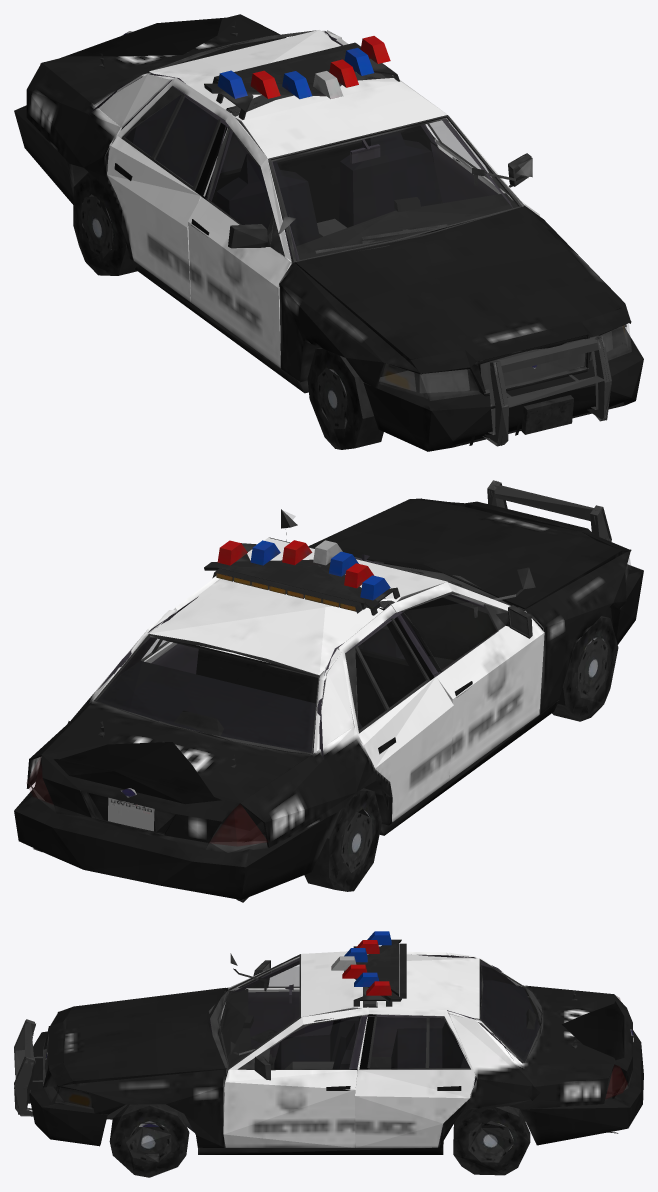
The model's file is crownvic_police.lod1.glb.
3 renders of one model, top to bottom at view 1: azimuth 30°, elevation 25°; view 2: azimuth 150°, elevation 25°; view 3: azimuth 270°, elevation 25°, orthographic. The views are drawn at different scales.
Visible parts, largest first — view 1: glass_low_main_frame_0, glass_low_glass_0, glass_low_interior_bottom_0, glass_low_wheels_and_parts_0, fs_vector_bulbs_base_low_fs_vector_0, glass_low_interior2_0, glass_low_plate_0; view 2: glass_low_main_frame_0, glass_low_glass_0, glass_low_interior_bottom_0, glass_low_wheels_and_parts_0, fs_vector_bulbs_base_low_fs_vector_0, glass_low_interior2_0, glass_low_plate_0; view 3: glass_low_main_frame_0, glass_low_glass_0, glass_low_interior_bottom_0, glass_low_wheels_and_parts_0, glass_low_interior2_0, fs_vector_bulbs_base_low_fs_vector_0.
Part boxes in pixels (<box>): glass_low_main_frame_0: <box>14,14,643,451</box>; glass_low_glass_0: <box>40,63,631,400</box>; glass_low_interior_bottom_0: <box>107,94,517,392</box>; glass_low_wheels_and_parts_0: <box>73,21,611,449</box>; fs_vector_bulbs_base_low_fs_vector_0: <box>204,36,399,119</box>; glass_low_interior2_0: <box>88,31,512,260</box>; glass_low_plate_0: <box>521,395,573,434</box>; glass_low_main_frame_0: <box>14,498,643,899</box>; glass_low_glass_0: <box>27,511,631,846</box>; glass_low_interior_bottom_0: <box>33,561,524,902</box>; glass_low_wheels_and_parts_0: <box>98,480,618,891</box>; fs_vector_bulbs_base_low_fs_vector_0: <box>204,540,399,615</box>; glass_low_interior2_0: <box>97,554,495,759</box>; glass_low_plate_0: <box>108,797,154,831</box>; glass_low_main_frame_0: <box>29,951,643,1154</box>; glass_low_glass_0: <box>44,956,627,1108</box>; glass_low_interior_bottom_0: <box>107,980,626,1144</box>; glass_low_wheels_and_parts_0: <box>14,990,633,1177</box>; glass_low_interior2_0: <box>209,955,518,1144</box>; fs_vector_bulbs_base_low_fs_vector_0: <box>331,931,406,1007</box>.
Size of the model in its own units: 2.63 by 2.01 by 6.59.
7 materials, 7 textured.
